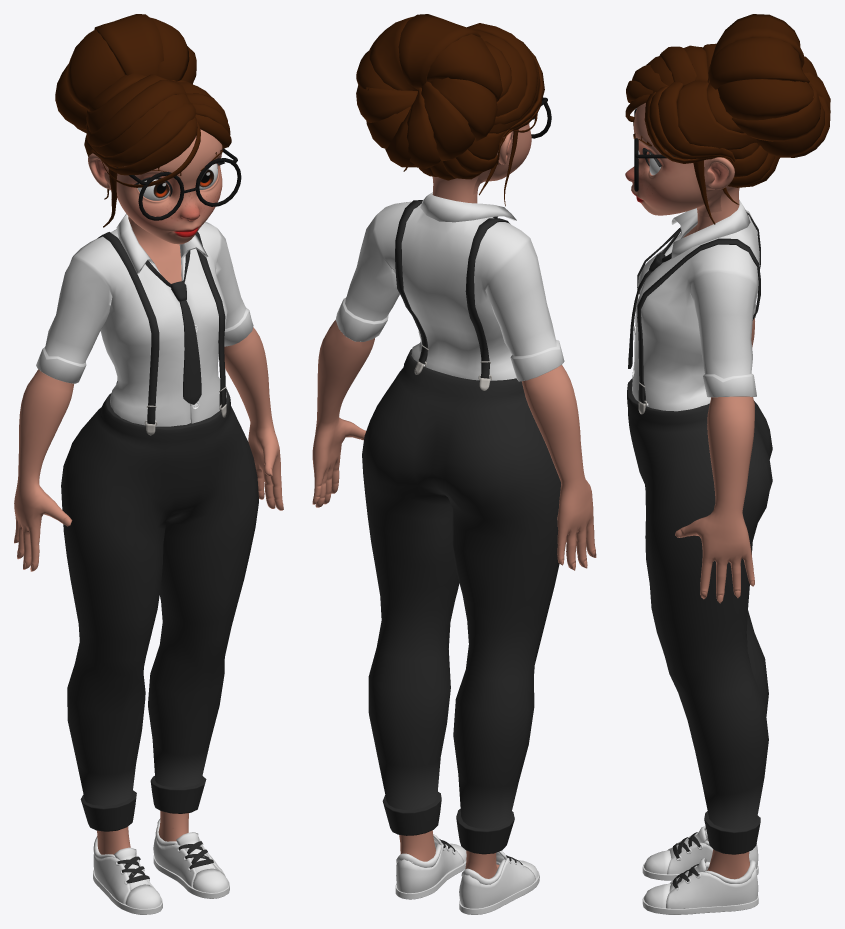
The model's file is MMD.glb.
3 views of the same model, side by side, from view 1: azimuth 30°, elevation 25°; view 2: azimuth 150°, elevation 25°; view 3: azimuth 270°, elevation 25° (orthographic). The views are drawn at different scales.
Parts seen in each view (by area): view 1: Cloths, hair, Static, BodySG4.001; view 2: Cloths, hair, Static, BodySG4.001; view 3: Cloths, hair, Static, BodySG4.001.
Boxes of the visible parts, x1,y1,x2,y2 form: Cloths: [36, 148, 258, 914]; hair: [55, 14, 231, 227]; Static: [14, 129, 283, 854]; BodySG4.001: [105, 131, 223, 244]; Cloths: [335, 97, 564, 914]; hair: [356, 14, 544, 206]; Static: [312, 118, 596, 878]; BodySG4.001: [473, 123, 531, 194]; Cloths: [627, 108, 772, 914]; hair: [625, 14, 830, 224]; Static: [642, 103, 754, 879]; BodySG4.001: [625, 104, 722, 217].
Bounding box in the file's own units: 29 × 92.04 × 19.82.
Materials: 10 (2 with a texture image).
